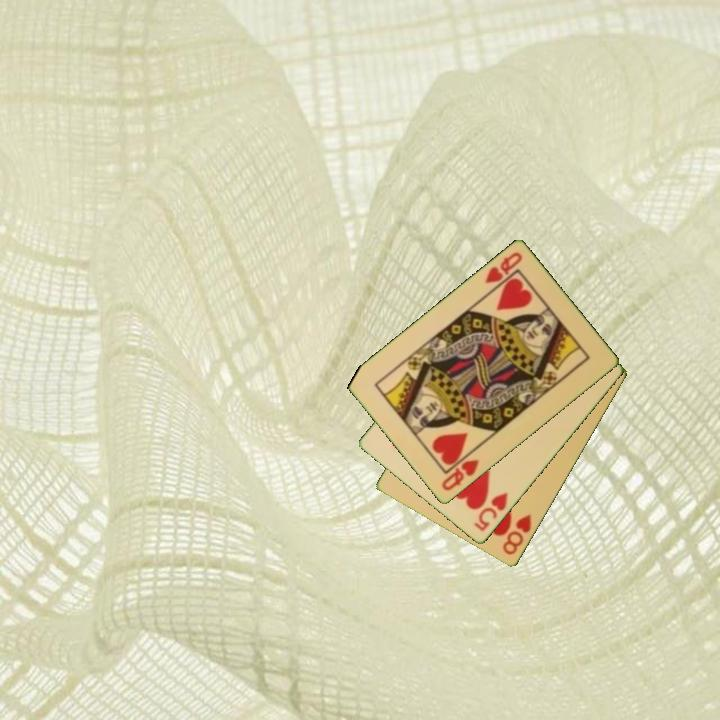5h: (470, 489, 511, 535)
8h: (499, 511, 534, 558)
Qh: (438, 456, 482, 494), (481, 249, 525, 287)
